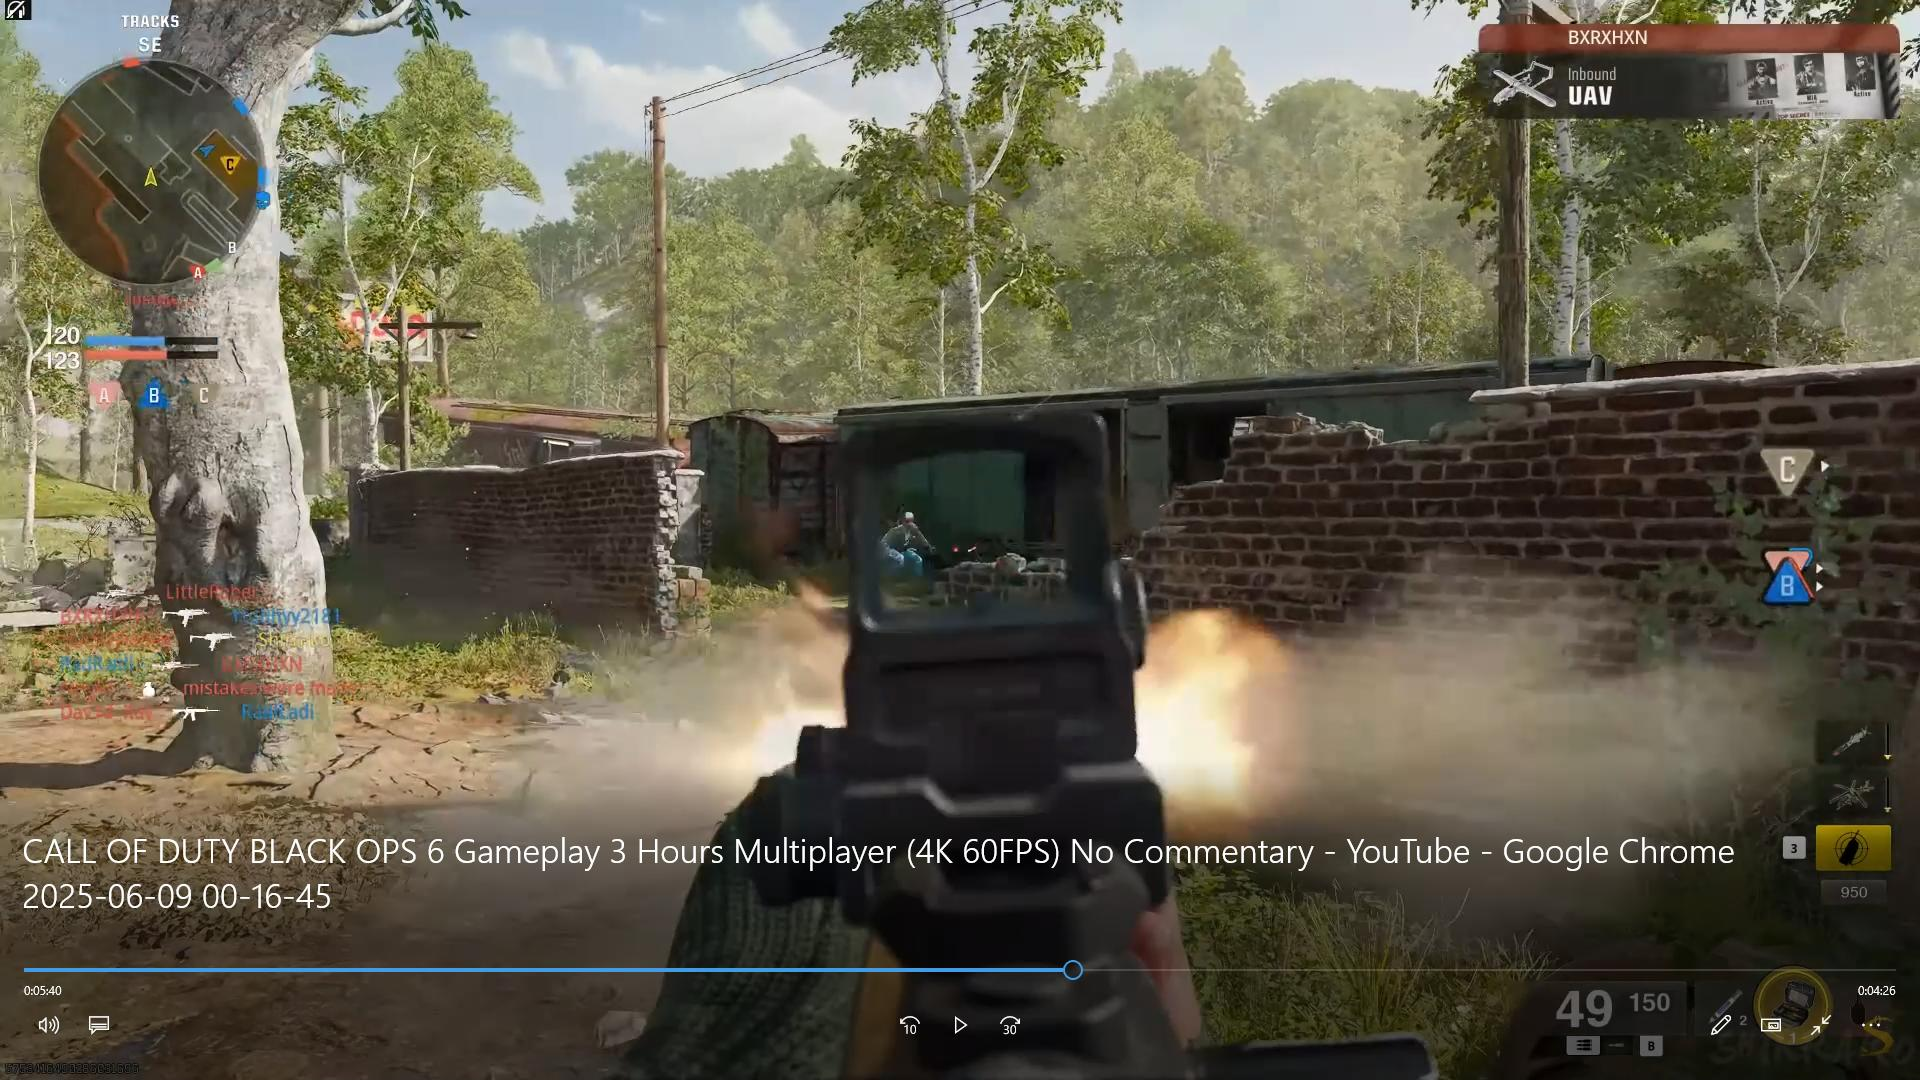Enemy: (880, 508, 931, 580)
